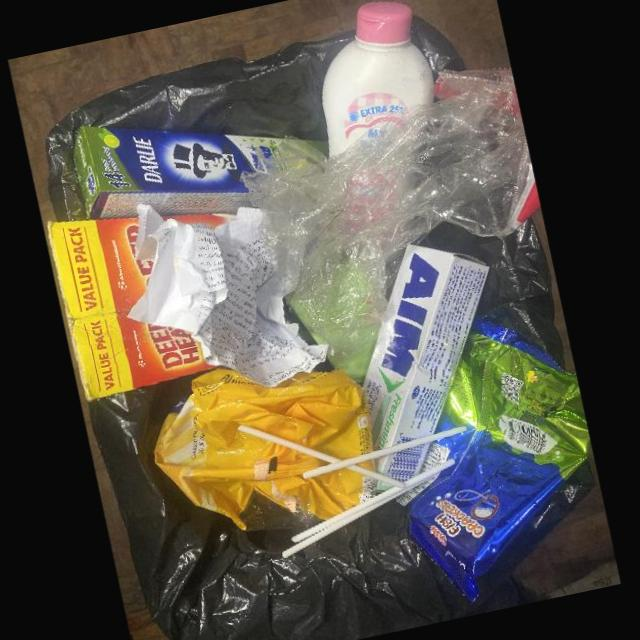bao_bi_thuc_pham: (395, 314, 590, 604), (152, 367, 371, 532)
carton: (363, 241, 489, 489), (47, 215, 215, 399), (74, 123, 331, 217)
giay: (128, 204, 331, 387)
ong_hut_nhua: (292, 457, 456, 541), (278, 478, 428, 561), (237, 423, 399, 486)
tui_ni_long: (241, 64, 540, 378)
